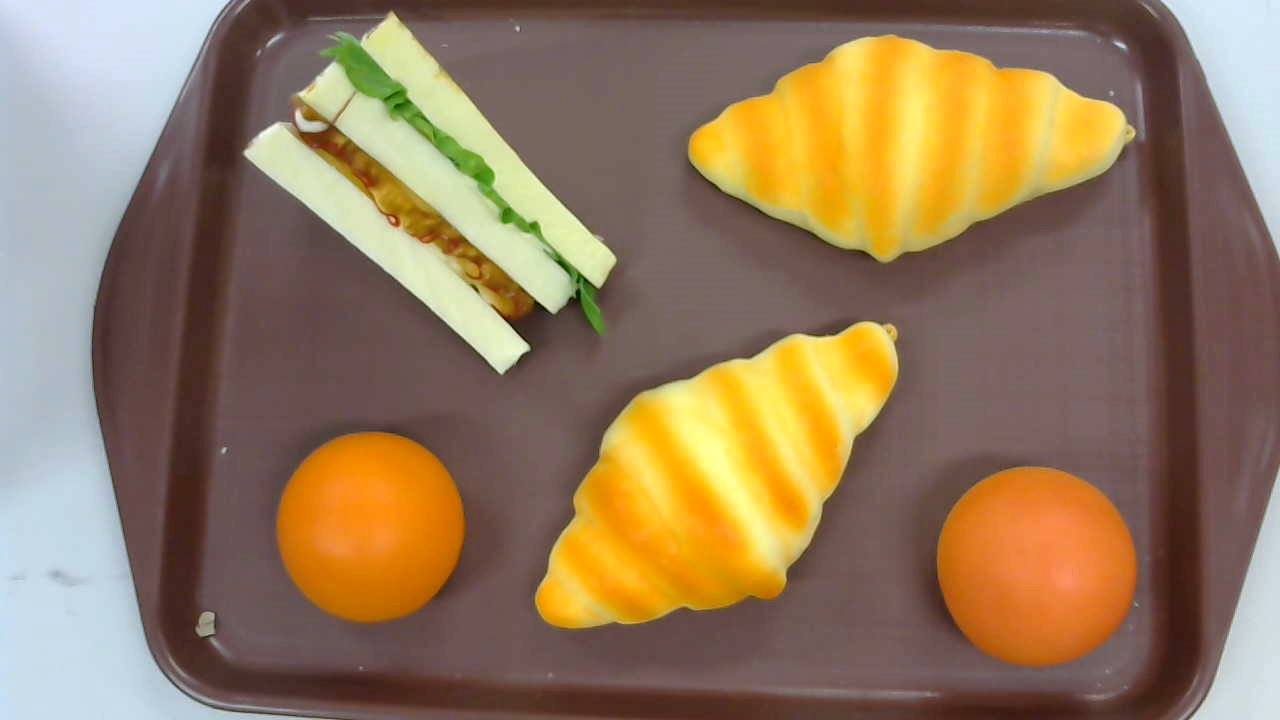bun: (935, 465, 1136, 667), (275, 431, 466, 622)
croissant: (535, 320, 898, 629), (687, 34, 1135, 264)
sandwich: (242, 8, 616, 377)
